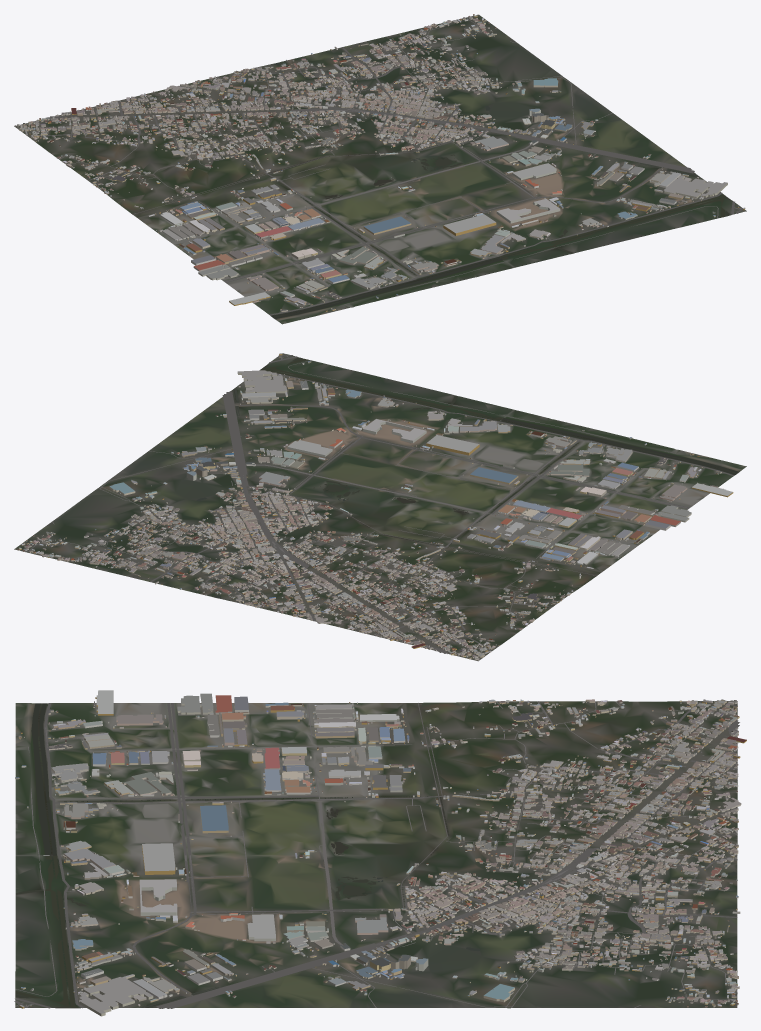
3 views of the same model, one above another, from view 1: azimuth 30°, elevation 25°; view 2: azimuth 150°, elevation 25°; view 3: azimuth 270°, elevation 25° (orthographic). The views are drawn at different scales.
Visible parts, largest first — view 1: ground, buildings, roads, water; view 2: ground, buildings, roads, water; view 3: ground, buildings, roads, water.
Part boxes in pixels (x1,y1,x2,y2): ground: (14, 14, 746, 324); buildings: (14, 14, 745, 311); roads: (17, 17, 743, 315); water: (267, 62, 730, 318); ground: (14, 353, 746, 661); buildings: (17, 353, 733, 660); roads: (26, 354, 734, 659); water: (196, 357, 738, 597); ground: (15, 701, 737, 1008); buildings: (15, 690, 746, 1016); roads: (14, 701, 739, 1008); water: (15, 703, 736, 1007).
Size of the model in its own units: 2980 by 39.47 by 2844.
